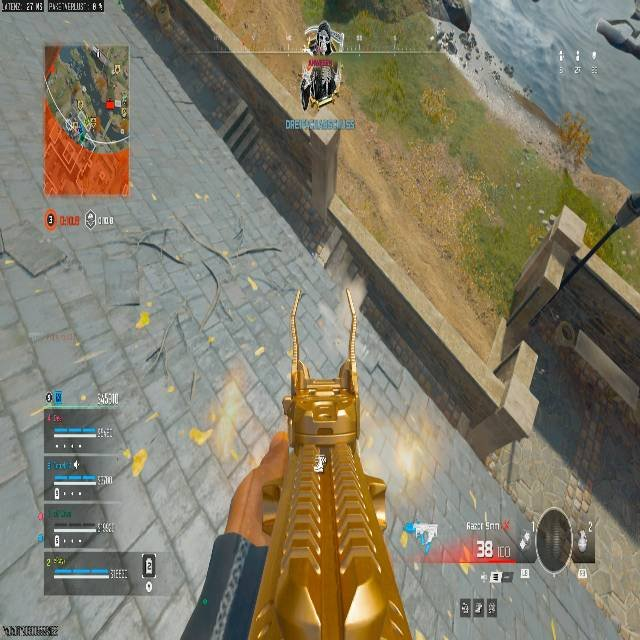head: (319, 20, 330, 32)
player: (299, 20, 341, 111)
